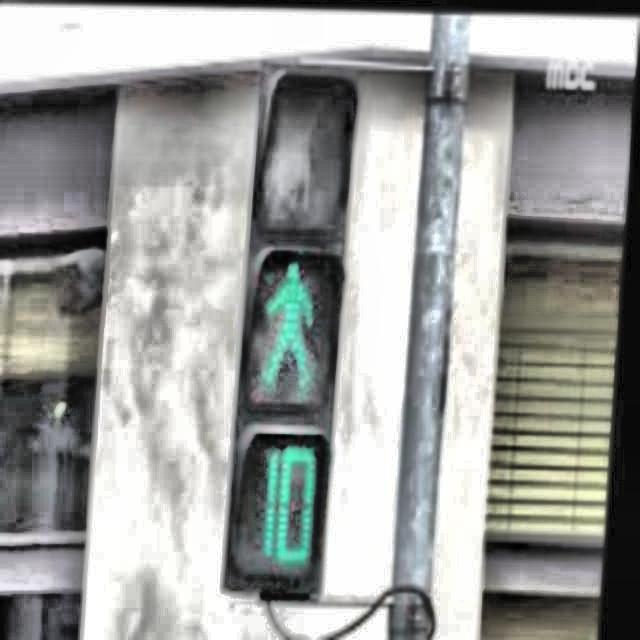semaforo pedestre: (144, 3, 446, 640)
